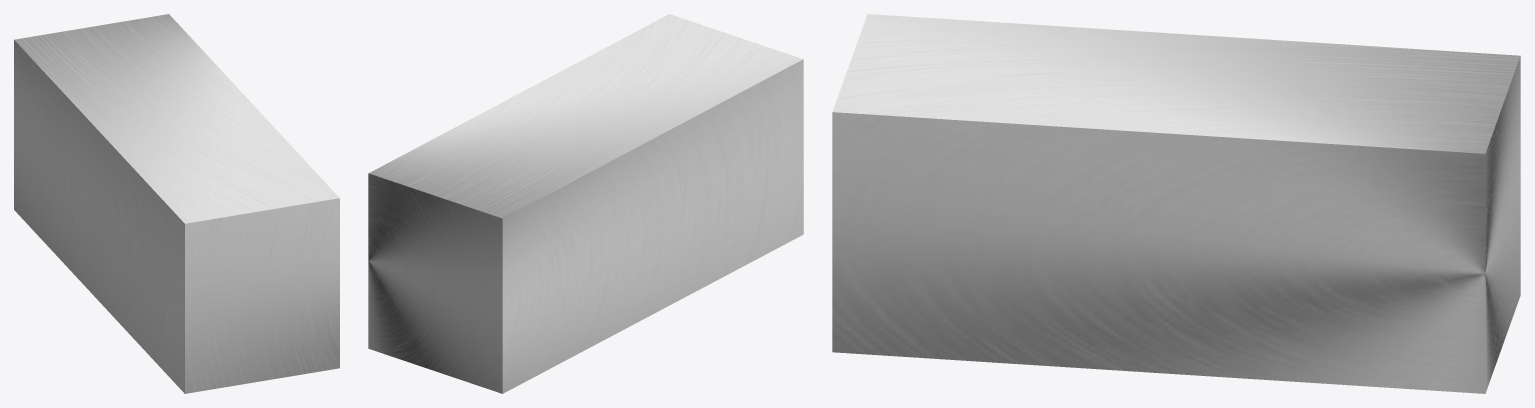
File: caja1.glb
3 views of the same model, side by side, from view 1: azimuth 30°, elevation 25°; view 2: azimuth 150°, elevation 25°; view 3: azimuth 270°, elevation 25° (orthographic). The views are drawn at different scales.
Parts seen in each view (by area): view 1: Cubo.001; view 2: Cubo.001; view 3: Cubo.001.
Boxes of the visible parts, x1,y1,x2,y2 form: Cubo.001: (14,14,339,393); Cubo.001: (368,14,803,393); Cubo.001: (832,14,1520,393).
Bounding box in the file's own units: 0.9995 × 0.8003 × 2.08.
1 material, 1 textured.
